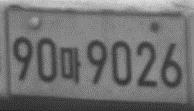0: (110, 41, 133, 85), (36, 37, 57, 83)
2: (135, 41, 158, 88)
6: (159, 42, 183, 88)
9: (85, 38, 107, 85), (12, 35, 34, 81)
마: (58, 45, 82, 84)
